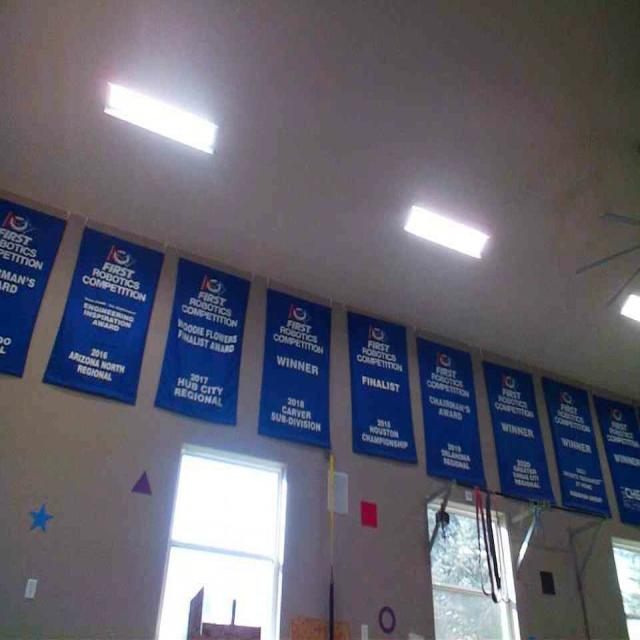ring_purple: (376, 605, 396, 633)
square_black: (538, 568, 556, 594)
square_red: (359, 497, 379, 526)
star_blue: (27, 502, 52, 531)
triangle_purple: (131, 468, 152, 494)
